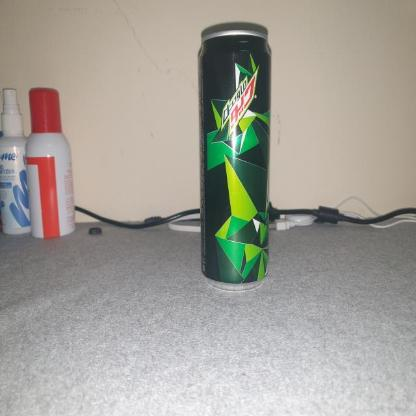Can: (198, 21, 272, 292)
